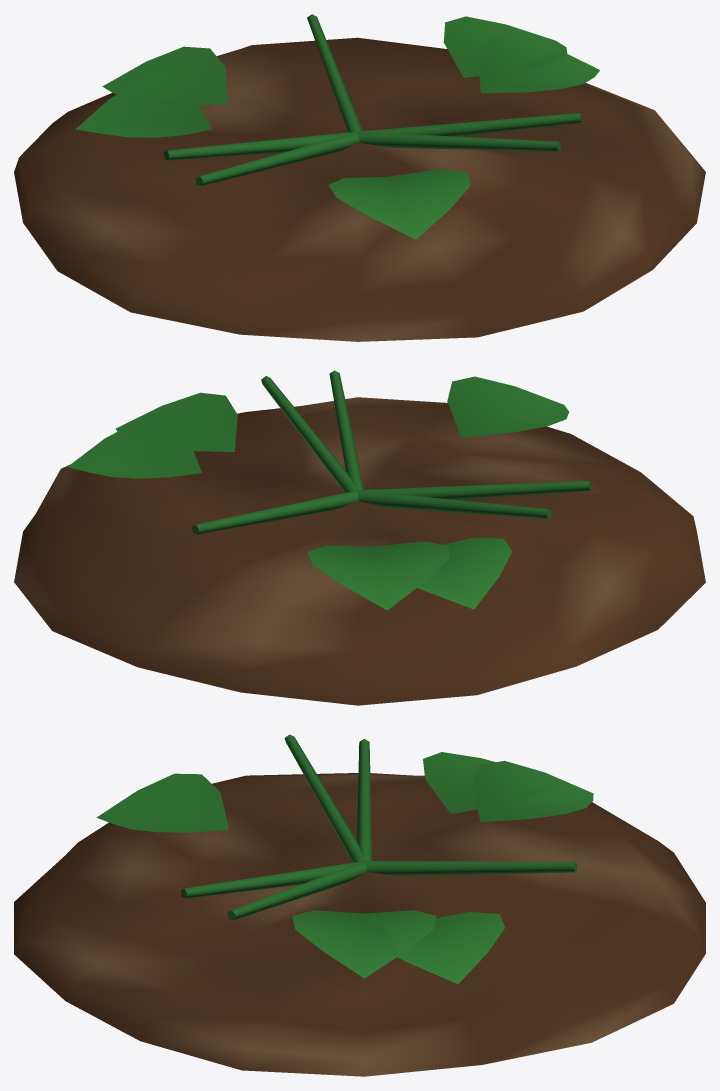
File: plant-watermelon-1.gltf
The picture shows the model from 3 angles, top to bottom: view 1: azimuth 30°, elevation 25°; view 2: azimuth 150°, elevation 25°; view 3: azimuth 270°, elevation 25°; orthographic projection.
Size of the model in its own units: 1.28 by 0.2004 by 1.26.
